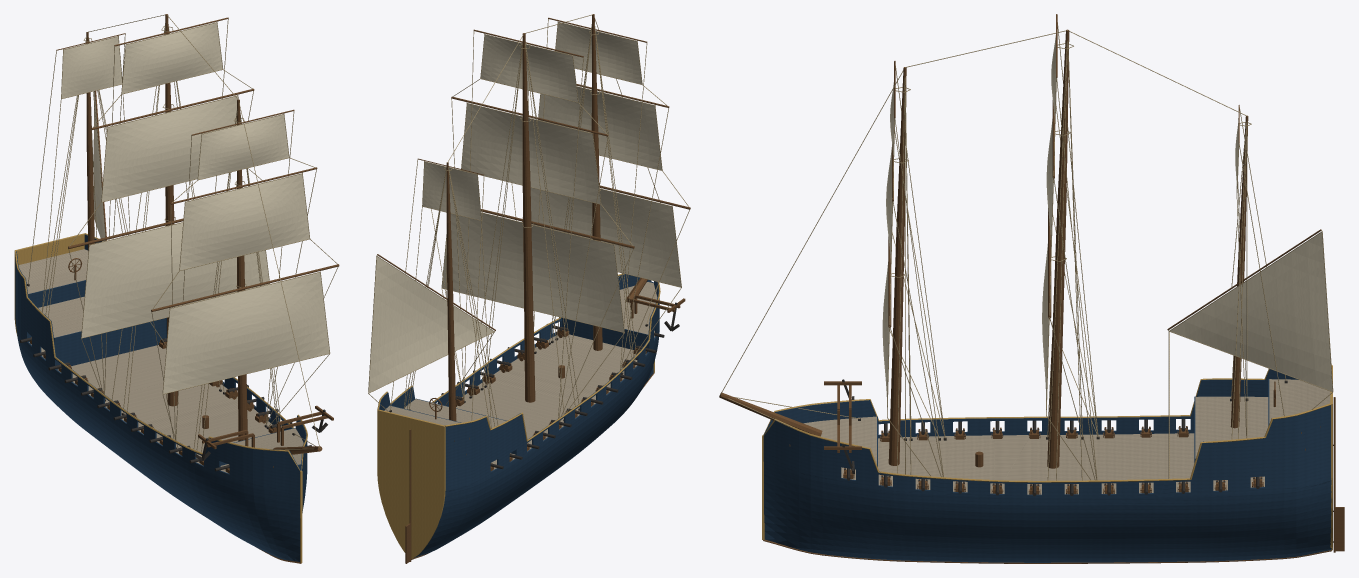
3 views of the same model, side by side, from view 1: azimuth 30°, elevation 25°; view 2: azimuth 150°, elevation 25°; view 3: azimuth 270°, elevation 25° (orthographic). The views are drawn at different scales.
Parts seen in each view (by area): view 1: lod2_hull_shell_starboard, lod2_fore_square_00, lod2_main_square_00, lod2_main_deck, lod2_fore_square_01, lod2_main_square_01, lod2_main_square_02, lod2_fore_square_02, lod2_castle_bulkhead_1_1, lod2_mizzen_square_00, lod2_castle_deck_0, lod2_stern_closure (+12 smaller); view 2: lod2_hull_shell_starboard, lod2_main_square_00, lod2_main_square_01, lod2_main_deck, lod2_mizzen_lateen_01, lod2_stern_closure, lod2_fore_square_00, lod2_fore_square_01, lod2_main_square_02, lod2_fore_square_02, lod2_main, lod2_mizzen_square_00 (+17 smaller); view 3: lod2_hull_shell_port, lod2_main_deck, lod2_mizzen_lateen_01, lod2_hull_shell_starboard, lod2_main, lod2_fore, lod2_castle_deck_1, lod2_castle_deck_0, lod2_gunwale_port, lod2_mizzen, lod2_castle_deck_2, lod2_keel (+2 smaller).
Boxes of the visible parts, left/top/right/bottom form: lod2_hull_shell_starboard: left=15, top=251, right=300, bottom=561; lod2_fore_square_00: left=163, top=272, right=329, bottom=393; lod2_main_square_00: left=81, top=222, right=269, bottom=337; lod2_main_deck: left=29, top=342, right=272, bottom=472; lod2_fore_square_01: left=180, top=174, right=309, bottom=270; lod2_main_square_01: left=102, top=96, right=240, bottom=201; lod2_main_square_02: left=122, top=23, right=222, bottom=93; lod2_fore_square_02: left=198, top=114, right=288, bottom=179; lod2_castle_bulkhead_1_1: left=54, top=318, right=166, bottom=369; lod2_mizzen_square_00: left=61, top=37, right=122, bottom=98; lod2_castle_deck_0: left=18, top=249, right=88, bottom=293; lod2_stern_closure: left=14, top=233, right=84, bottom=335; lod2_hull_shell_starboard: left=413, top=281, right=659, bottom=558; lod2_main_square_00: left=442, top=213, right=624, bottom=332; lod2_main_square_01: left=461, top=103, right=600, bottom=203; lod2_main_deck: left=456, top=330, right=654, bottom=469; lod2_mizzen_lateen_01: left=368, top=256, right=493, bottom=392; lod2_stern_closure: left=377, top=409, right=445, bottom=559; lod2_fore_square_00: left=530, top=188, right=681, bottom=286; lod2_fore_square_01: left=538, top=87, right=661, bottom=170; lod2_main_square_02: left=481, top=35, right=577, bottom=102; lod2_fore_square_02: left=555, top=22, right=641, bottom=84; lod2_main: left=522, top=33, right=535, bottom=402; lod2_mizzen_square_00: left=422, top=162, right=480, bottom=220; lod2_hull_shell_port: left=763, top=405, right=1331, bottom=562; lod2_main_deck: left=841, top=433, right=1264, bottom=494; lod2_mizzen_lateen_01: left=1170, top=232, right=1332, bottom=391; lod2_hull_shell_starboard: left=763, top=369, right=1298, bottom=438; lod2_main: left=1047, top=29, right=1069, bottom=468; lod2_fore: left=888, top=67, right=906, bottom=465; lod2_castle_deck_1: left=1195, top=396, right=1268, bottom=458; lod2_castle_deck_0: left=1269, top=379, right=1330, bottom=423; lod2_gunwale_port: left=763, top=403, right=1331, bottom=482; lod2_mizzen: left=1230, top=115, right=1248, bottom=428; lod2_castle_deck_2: left=803, top=416, right=876, bottom=464; lod2_keel: left=763, top=539, right=1331, bottom=563.
Bounding box in the file's own units: 19.09 × 40.42 × 42.94.
Materials: 7 (7 with a texture image).
